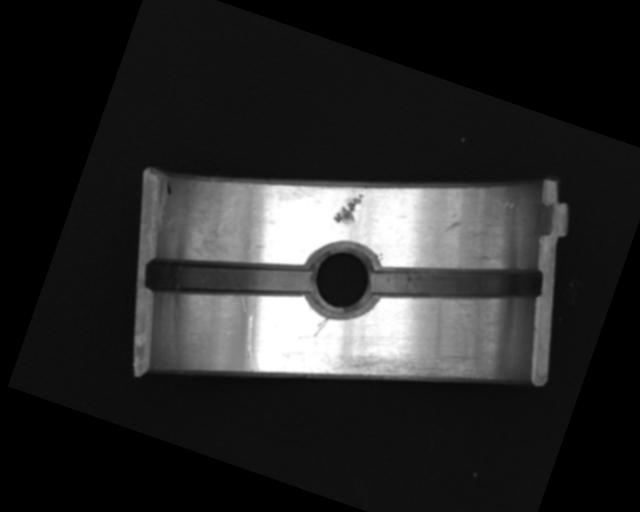blot: (162, 179, 175, 196)
bruise: (331, 187, 366, 230), (443, 211, 464, 235), (503, 198, 518, 211)
gap: (367, 221, 547, 348), (141, 216, 316, 339)
hole: (296, 234, 387, 326)
nick: (231, 312, 275, 373), (312, 315, 329, 340)
scratch: (328, 310, 500, 436)
